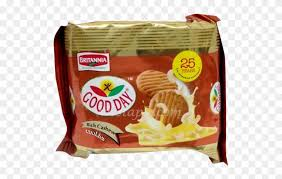gooday-medium: (60, 20, 221, 151)
